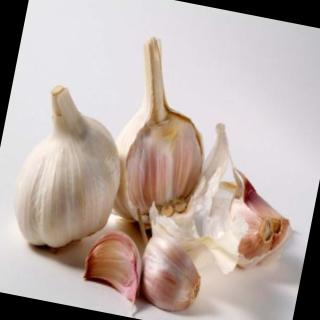Bawang Putih: (100, 34, 226, 232), (5, 80, 137, 261), (213, 167, 303, 278), (133, 234, 208, 317), (80, 225, 150, 306)
